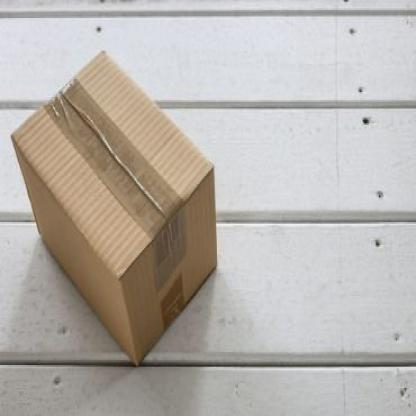package: (8, 46, 228, 378)
